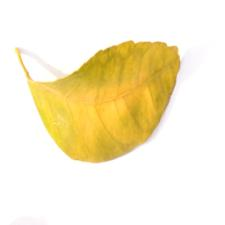Greening: (48, 55, 171, 146)
